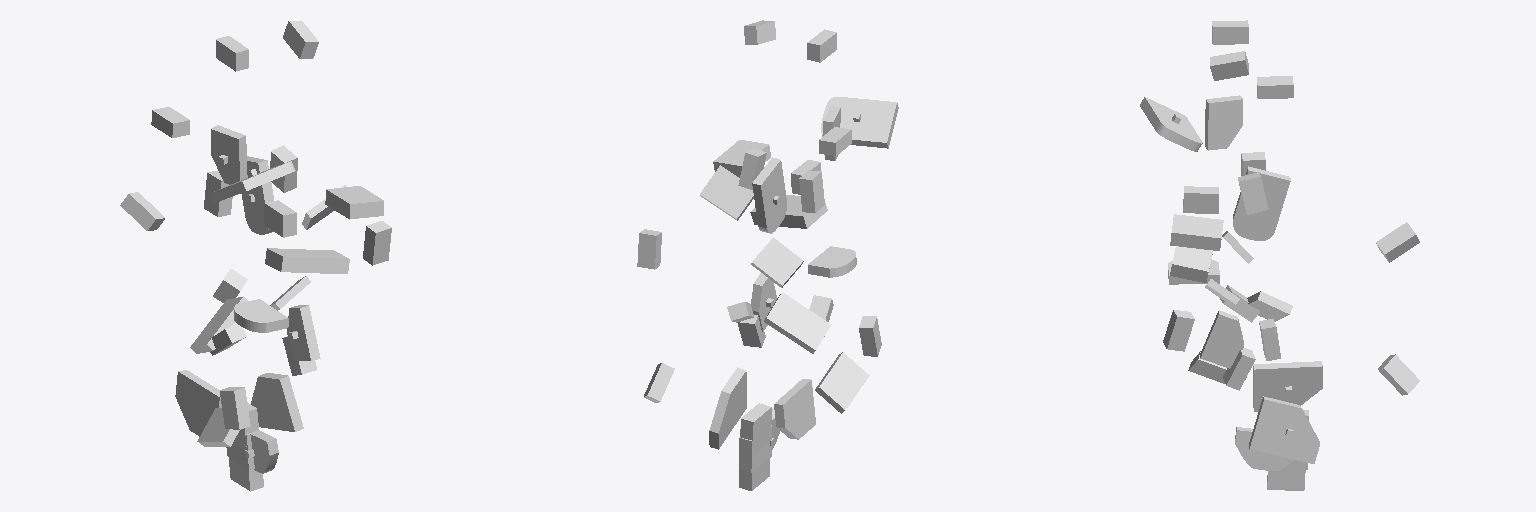
--- Facts derived from the render (not from the file) ---
The picture shows the robot from 3 angles, left to right: view 1: azimuth 30°, elevation 25°; view 2: azimuth 150°, elevation 25°; view 3: azimuth 270°, elevation 25°; orthographic projection.
Model GEN3_URDF_V12 with 38 links and 37 joints (7 revolute, 30 fixed), rooted at base_link, posed every joint at zero.
Links seen in each view (by area): view 1: Taxel_1025, Taxel_1024, Taxel_1012, Taxel_1014, Taxel_1013, Taxel_1015, Taxel_1005, Taxel_1011, Taxel_1022, Taxel_1001, Taxel_1027, Taxel_1009 (+12 smaller); view 2: Taxel_1001, Taxel_1027, Taxel_1005, Taxel_1024, Taxel_1025, Taxel_1026, Taxel_1022, Taxel_1016, Taxel_1017, Taxel_1011, Taxel_1013, Taxel_1006 (+11 smaller); view 3: Taxel_1025, Taxel_1024, Taxel_1005, Taxel_1014, Taxel_1015, Taxel_1001, Taxel_1013, Taxel_1012, Taxel_1021, Taxel_1022, Taxel_1007, Taxel_1020 (+10 smaller).
Boxes of the visible links, bbox=[...] form: Taxel_1025: bbox=[251, 373, 303, 431]; Taxel_1024: bbox=[175, 370, 221, 436]; Taxel_1012: bbox=[265, 248, 349, 273]; Taxel_1014: bbox=[211, 125, 247, 184]; Taxel_1013: bbox=[325, 186, 383, 219]; Taxel_1015: bbox=[287, 305, 320, 360]; Taxel_1005: bbox=[241, 156, 273, 234]; Taxel_1011: bbox=[234, 299, 288, 332]; Taxel_1022: bbox=[229, 402, 263, 491]; Taxel_1001: bbox=[210, 161, 295, 202]; Taxel_1027: bbox=[190, 296, 247, 353]; Taxel_1009: bbox=[220, 387, 250, 429]; Taxel_1001: bbox=[821, 97, 898, 148]; Taxel_1027: bbox=[764, 292, 831, 353]; Taxel_1005: bbox=[752, 157, 786, 233]; Taxel_1024: bbox=[774, 379, 815, 439]; Taxel_1025: bbox=[709, 367, 746, 449]; Taxel_1026: bbox=[815, 352, 869, 413]; Taxel_1022: bbox=[739, 403, 771, 490]; Taxel_1016: bbox=[700, 165, 753, 220]; Taxel_1017: bbox=[751, 237, 803, 287]; Taxel_1011: bbox=[808, 246, 856, 277]; Taxel_1013: bbox=[713, 140, 770, 177]; Taxel_1006: bbox=[799, 170, 824, 212]; Taxel_1025: bbox=[1249, 396, 1319, 463]; Taxel_1024: bbox=[1253, 361, 1322, 411]; Taxel_1005: bbox=[1233, 166, 1290, 240]; Taxel_1014: bbox=[1205, 95, 1242, 150]; Taxel_1015: bbox=[1200, 310, 1243, 368]; Taxel_1001: bbox=[1140, 97, 1202, 151]; Taxel_1013: bbox=[1170, 214, 1223, 250]; Taxel_1012: bbox=[1170, 246, 1212, 282]; Taxel_1021: bbox=[1235, 427, 1293, 470]; Taxel_1022: bbox=[1267, 410, 1308, 490]; Taxel_1007: bbox=[1183, 186, 1218, 213]; Taxel_1020: bbox=[1376, 222, 1419, 262].
Bounding box of the posed robot: 0.3778 × 0.4357 × 0.7649 m (x, y, z).
Meshes: 36 distinct files referenced, 28 mesh visuals loaded (28 binary STL); not drawn: 8 (reference not matched to a file when rendering).

robot.urdf — GEN3_URDF_V12:
<robot name="GEN3_URDF_V12" version="1.0">
    <material name="carbon_fiber">
        <color rgba="0.9 0.9 0.9 1" />
    </material>
    <link name="base_link">
        <inertial>
            <origin xyz="-0.000648 -0.000166 0.084487" rpy="0 0 0" />
            <mass value="1.697" />
            <inertia ixx="0.004622" ixy="9E-06" ixz="6E-05" iyy="0.004495" iyz="9E-06"
                izz="0.002079" />
        </inertial>
        <visual>
            <origin xyz="0 0 0" rpy="0 0 0" />
            <geometry>
                <mesh filename="package://meshes/base_link.STL" />
            </geometry>
            <material name="carbon_fiber" />
        </visual>
        <collision>
            <origin xyz="0 0 0" rpy="0 0 0" />
            <geometry>
                <mesh filename="package://meshes/base_link.STL" />
            </geometry>
        </collision>
    </link>
    <link name="Shoulder_Link">
        <inertial>
            <origin xyz="-2.3E-05 -0.010364 -0.07336" rpy="0 0 0" />
            <mass value="1.3773" />
            <inertia ixx="0.00457" ixy="1E-06" ixz="2E-06" iyy="0.004831" iyz="0.000448"
                izz="0.001409" />
        </inertial>
        <visual>
            <origin xyz="0 0 0" rpy="0 0 0" />
            <geometry>
                <mesh filename="package://meshes/shoulder_link.STL" />
            </geometry>
            <material name="carbon_fiber" />
        </visual>
        <collision>
            <origin xyz="0 0 0" rpy="0 0 0" />
            <geometry>
                <mesh filename="package://meshes/shoulder_link.STL" />
            </geometry>
        </collision>
    </link>
    <joint name="Actuator1" type="revolute">
        <origin xyz="0 0 0.15643" rpy="3.1416 2.7629E-18 -4.9305E-36" />
        <parent link="base_link" />
        <child link="Shoulder_Link" />
        <axis xyz="0 0 1" />
        <limit effort="39" velocity="0.8727" />
    </joint>
    <link name="HalfArm1_Link">
        <inertial>
            <origin xyz="-4.4E-05 -0.09958 -0.013278" rpy="0 0 0" />
            <mass value="1.1636" />
            <inertia ixx="0.011088" ixy="5E-06" ixz="0" iyy="0.001072" iyz="-0.000691"
                izz="0.011255" />
        </inertial>
        <visual>
            <origin xyz="0 0 0" rpy="0 0 0" />
            <geometry>
                <mesh filename="package://meshes/half_arm_1_link.STL" />
            </geometry>
            <material name="carbon_fiber" />
        </visual>
        <collision>
            <origin xyz="0 0 0" rpy="0 0 0" />
            <geometry>
                <mesh filename="package://meshes/half_arm_1_link.STL" />
            </geometry>
        </collision>
    </link>
    <joint name="Actuator2" type="revolute">
        <origin xyz="0 0.005375 -0.12838" rpy="1.5708 2.1343E-17 -1.1102E-16" />
        <parent link="Shoulder_Link" />
        <child link="HalfArm1_Link" />
        <axis xyz="0 0 1" />
        <limit lower="-2.41" upper="2.41" effort="39" velocity="0.8727" />
    </joint>
    <link name="HalfArm2_Link">
        <inertial>
            <origin xyz="-4.4E-05 -0.006641 -0.117892" rpy="0 0 0" />
            <mass value="1.1636" />
            <inertia ixx="0.010932" ixy="0" ixz="-7E-06" iyy="0.011127" iyz="0.000606"
                izz="0.001043" />
        </inertial>
        <visual>
            <origin xyz="0 0 0" rpy="0 0 0" />
            <geometry>
                <mesh filename="package://meshes/half_arm_2_link.STL" />
            </geometry>
            <material name="carbon_fiber" />
        </visual>
        <collision>
            <origin xyz="0 0 0" rpy="0 0 0" />
            <geometry>
                <mesh filename="package://meshes/half_arm_2_link.STL" />
            </geometry>
        </collision>
    </link>
    <joint name="Actuator3" type="revolute">
        <origin xyz="0 -0.21038 -0.006375" rpy="-1.5708 1.2326E-32 -2.9122E-16" />
        <parent link="HalfArm1_Link" />
        <child link="HalfArm2_Link" />
        <axis xyz="0 0 1" />
        <limit effort="39" velocity="0.8727" />
    </joint>
    <link name="ForeArm_Link">
        <inertial>
            <origin xyz="-1.8E-05 -0.075478 -0.015006" rpy="0 0 0" />
            <mass value="0.9302" />
            <inertia ixx="0.008147" ixy="-1E-06" ixz="0" iyy="0.000631" iyz="-0.0005" izz="0.008316" />
        </inertial>
        <visual>
            <origin xyz="0 0 0" rpy="0 0 0" />
            <geometry>
                <mesh filename="package://meshes/forearm_link.STL" />
            </geometry>
            <material name="carbon_fiber" />
        </visual>
        <collision>
            <origin xyz="0 0 0" rpy="0 0 0" />
            <geometry>
                <mesh filename="package://meshes/forearm_link.STL" />
            </geometry>
        </collision>
    </link>
    <joint name="Actuator4" type="revolute">
        <origin xyz="0 0.006375 -0.21038" rpy="1.5708 -6.6954E-17 -1.6653E-16" />
        <parent link="HalfArm2_Link" />
        <child link="ForeArm_Link" />
        <axis xyz="0 0 1" />
        <limit lower="-2.66" upper="2.66" effort="39" velocity="0.8727" />
    </joint>
    <link name="SphericalWrist1_Link">
        <inertial>
            <origin xyz="1E-06 -0.009432 -0.063883" rpy="0 0 0" />
            <mass value="0.6781" />
            <inertia ixx="0.001596" ixy="0" ixz="0" iyy="0.001607" iyz="0.000256" izz="0.000399" />
        </inertial>
        <visual>
            <origin xyz="0 0 0" rpy="0 0 0" />
            <geometry>
                <mesh filename="package://meshes/spherical_wrist_1_link.STL" />
            </geometry>
            <material name="carbon_fiber" />
        </visual>
        <collision>
            <origin xyz="0 0 0" rpy="0 0 0" />
            <geometry>
                <mesh filename="package://meshes/spherical_wrist_1_link.STL" />
            </geometry>
        </collision>
    </link>
    <joint name="Actuator5" type="revolute">
        <origin xyz="0 -0.20843 -0.006375" rpy="-1.5708 2.2204E-16 -6.373E-17" />
        <parent link="ForeArm_Link" />
        <child link="SphericalWrist1_Link" />
        <axis xyz="0 0 1" />
        <limit effort="9" velocity="0.8727" />
    </joint>
    <link name="SphericalWrist2_Link">
        <inertial>
            <origin xyz="1E-06 -0.045483 -0.00965" rpy="0 0 0" />
            <mass value="0.6781" />
            <inertia ixx="0.001641" ixy="0" ixz="0" iyy="0.00041" iyz="-0.000278" izz="0.001641" />
        </inertial>
        <visual>
            <origin xyz="0 0 0" rpy="0 0 0" />
            <geometry>
                <mesh filename="package://meshes/spherical_wrist_2_link.STL" />
            </geometry>
            <material name="carbon_fiber" />
        </visual>
        <collision>
            <origin xyz="0 0 0" rpy="0 0 0" />
            <geometry>
                <mesh filename="package://meshes/spherical_wrist_2_link.STL" />
            </geometry>
        </collision>
    </link>
    <joint name="Actuator6" type="revolute">
        <origin xyz="0 0.00017505 -0.10593" rpy="1.5708 9.2076E-28 -8.2157E-15" />
        <parent link="SphericalWrist1_Link" />
        <child link="SphericalWrist2_Link" />
        <axis xyz="0 0 1" />
        <limit lower="-2.23" upper="2.23" effort="9" velocity="0.8727" />
    </joint>
    <link name="Bracelet_Link">
        <inertial>
            <origin xyz="-0.000281 -0.011402 -0.029798" rpy="0 0 0" />
            <mass value="0.5006" />
            <inertia ixx="0.000587" ixy="3E-06" ixz="3E-06" iyy="0.000369" iyz="0.000118"
                izz="0.000609" />
        </inertial>
        <visual>
            <origin xyz="0 0 0" rpy="0 0 0" />
            <geometry>
                <mesh filename="package://meshes/bracelet_link.STL" />
            </geometry>
            <material name="carbon_fiber" />
        </visual>
        <collision>
            <origin xyz="0 0 0" rpy="0 0 0" />
            <geometry>
                <mesh filename="package://meshes/bracelet_link.STL" />
            </geometry>
        </collision>
    </link>
    <joint name="Actuator7" type="revolute">
        <origin xyz="0 -0.10593 -0.00017505" rpy="-1.5708 -5.5511E-17 9.6396E-17" />
        <parent link="SphericalWrist2_Link" />
        <child link="Bracelet_Link" />
        <axis xyz="0 0 1" />
        <limit effort="9" velocity="0.8727" />
    </joint>
    <link name="EndEffector_Link">
        <inertial>
            <origin xyz="2.607703E-08 -0.06152506 -1.476509E-22" rpy="0 0 3.14159265358979" />
            <mass value="1e-6" />
            <inertia ixx="1e-6" ixy="0" ixz="0" iyy="1e-6" iyz="0" izz="1e-6" />
        </inertial>
    </link>
    <joint name="EndEffector" type="fixed">
        <origin xyz="0 0 -0.0615250000000001" rpy="3.14159265358979 1.09937075168372E-32 0" />
        <parent link="Bracelet_Link" />
        <child link="EndEffector_Link" />
        <axis xyz="0 0 0" />
    </joint>
    <link name="GraspPoint_Link">
        <inertial>
            <origin xyz="-1.683871E-08 0.15 -9.884628E-23" rpy="0 0 0" />
            <mass value="1e-6" />
            <inertia ixx="1e-6" ixy="0" ixz="0" iyy="1e-6" iyz="0" izz="1e-6" />
        </inertial>
    </link>
    <joint name="GraspPoint" type="fixed">
        <origin xyz="0 0 0.15" rpy="0 0 0" />
        <parent link="EndEffector_Link" />
        <child link="GraspPoint_Link" />
        <axis xyz="0 0 0" />
    </joint>


    <link name="Taxel_1000">
        <inertial>
            <origin xyz="-0.052445270429107016 -0.07538602327149134 0.0007283991244731002"
                rpy="3.0325962716393877 0.005719178247827092 3.0331306355976504" />
            <mass value="0" />
            <inertia ixx="0" ixy="0" ixz="0" iyy="0" iyz="0" izz="0" />
        </inertial>
        <visual>
            <origin xyz="-0.04250419541867655 -0.07646850041798192 0.0007855905951708805"
                rpy="-3.0890651379540226 -1.4616505955674315 -1.7314738657660091" />
            <geometry>
                <mesh filename="package://meshes/taxel_0.STL" scale="0.01 0.01 0.01" />
            </geometry>
            <material name="carbon_fiber" />
        </visual>
        <collision>
            <origin xyz="0 0 0" rpy="0 0 0" />
            <geometry>
                <mesh filename="package://meshes/taxel_0.STL" scale="0.01 0.01 0.01" />
            </geometry>
        </collision>
    </link>

    <joint name="Taxel_1000_joint" type="fixed">
        <origin xyz="-0.052445270429107016 -0.07538602327149134 0.0007283991244731002"
            rpy="3.0325962716393877 0.005719178247827092 3.0331306355976504" />
        <parent link="SphericalWrist2_Link" />
        <child link="Taxel_1000" />
        <axis xyz="0 0 0" />
    </joint>


    <link name="Taxel_1001">
        <inertial>
            <origin xyz="0.005253869170896618 -0.04552703466552932 -0.06957663768240956"
                rpy="0.8051031730330349 1.1810370681142635 -0.8047010596119216" />
            <mass value="0" />
            <inertia ixx="0" ixy="0" ixz="0" iyy="0" iyz="0" izz="0" />
        </inertial>
        <visual>
            <origin xyz="-1.4938605298674768e-05 -0.040050790502569544 -0.051076626480111506"
                rpy="0.8051031730330349 1.1810370681142643 -0.8047010596119213" />
            <geometry>
                <mesh filename="package://meshes/taxel_1.STL" scale="0.01 0.01 0.01" />
            </geometry>
            <material name="carbon_fiber" />
        </visual>
        <collision>
            <origin xyz="0 0 0" rpy="0 0 0" />
            <geometry>
                <mesh filename="package://meshes/taxel_1.STL" scale="0.01 0.01 0.01" />
            </geometry>
        </collision>
    </link>

    <joint name="Taxel_1001_joint" type="fixed">
        <origin xyz="0.005253869170896618 -0.04552703466552932 -0.06957663768240956"
            rpy="0.8051031730330349 1.1810370681142635 -0.8047010596119216" />
        <parent link="SphericalWrist2_Link" />
        <child link="Taxel_1001" />
        <axis xyz="0 0 0" />
    </joint>


    <link name="Taxel_1002">
        <inertial>
            <origin xyz="0.05265680961296004 -0.07765011212123438 -0.00028589384460279364"
                rpy="0.10919582921402513 0.0057867837083246465 0.10839861698426927" />
            <mass value="0" />
            <inertia ixx="0" ixy="0" ixz="0" iyy="0" iyz="0" izz="0" />
        </inertial>
        <visual>
            <origin xyz="0.04271566985884755 -0.07873195857060433 -0.00022802633048775445"
                rpy="-3.0885418743915634 1.4614478801616508 1.7319294614617435" />
            <geometry>
                <mesh filename="package://meshes/taxel_2.STL" scale="0.01 0.01 0.01" />
            </geometry>
            <material name="carbon_fiber" />
        </visual>
        <collision>
            <origin xyz="0 0 0" rpy="0 0 0" />
            <geometry>
                <mesh filename="package://meshes/taxel_2.STL" scale="0.01 0.01 0.01" />
            </geometry>
        </collision>
    </link>

    <joint name="Taxel_1002_joint" type="fixed">
        <origin xyz="0.05265680961296004 -0.07765011212123438 -0.00028589384460279364"
            rpy="0.10919582921402513 0.0057867837083246465 0.10839861698426927" />
        <parent link="SphericalWrist2_Link" />
        <child link="Taxel_1002" />
        <axis xyz="0 0 0" />
    </joint>


    <link name="Taxel_1003">
        <inertial>
            <origin xyz="-0.001095072945351181 -0.07839455017060445 0.06312497430707095"
                rpy="0.7858420871596952 -1.4940900297599693 -2.355205855806937" />
            <mass value="0" />
            <inertia ixx="0" ixy="0" ixz="0" iyy="0" iyz="0" izz="0" />
        </inertial>
        <visual>
            <origin xyz="-1.241750836219415e-05 -0.07730975191366674 0.0431837840229755"
                rpy="0.7858420871596947 -1.4940900297599693 -2.3552058558069366" />
            <geometry>
                <mesh filename="package://meshes/taxel_3.STL" scale="0.01 0.01 0.01" />
            </geometry>
            <material name="carbon_fiber" />
        </visual>
        <collision>
            <origin xyz="0 0 0" rpy="0 0 0" />
            <geometry>
                <mesh filename="package://meshes/taxel_3.STL" scale="0.01 0.01 0.01" />
            </geometry>
        </collision>
    </link>

    <joint name="Taxel_1003_joint" type="fixed">
        <origin xyz="-0.001095072945351181 -0.07839455017060445 0.06312497430707095"
            rpy="0.7858420871596952 -1.4940900297599693 -2.355205855806937" />
        <parent link="SphericalWrist2_Link" />
        <child link="Taxel_1003" />
        <axis xyz="0 0 0" />
    </joint>


    <link name="Taxel_1004">
        <inertial>
            <origin xyz="0.053092065069546106 -2.2147194704642196e-05 -0.02890316990831826"
                rpy="-1.462889824467867 0.10742518247060699 0.01039176457728499" />
            <mass value="0" />
            <inertia ixx="0" ixy="0" ixz="0" iyy="0" iyz="0" izz="0" />
        </inertial>
        <visual>
            <origin xyz="0.043150247276728726 -0.0001254639437208889 -0.02783098306648868"
                rpy="-0.10804878460644929 0.10728206669616602 -1.572018748036638" />
            <geometry>
                <mesh filename="package://meshes/taxel_4.STL" scale="0.01 0.01 0.01" />
            </geometry>
            <material name="carbon_fiber" />
        </visual>
        <collision>
            <origin xyz="0 0 0" rpy="0 0 0" />
            <geometry>
                <mesh filename="package://meshes/taxel_4.STL" scale="0.01 0.01 0.01" />
            </geometry>
        </collision>
    </link>

    <joint name="Taxel_1004_joint" type="fixed">
        <origin xyz="0.053092065069546106 -2.2147194704642196e-05 -0.02890316990831826"
            rpy="-1.462889824467867 0.10742518247060699 0.01039176457728499" />
        <parent link="SphericalWrist1_Link" />
        <child link="Taxel_1004" />
        <axis xyz="0 0 0" />
    </joint>


    <link name="Taxel_1005">
        <inertial>
            <origin xyz="0.005221916540081712 -0.07017566229833808 -0.061414771366915394"
                rpy="3.141572926305186 -0.2887493170310711 -1.2820007033549434" />
            <mass value="0" />
            <inertia ixx="0" ixy="0" ixz="0" iyy="0" iyz="0" izz="0" />
        </inertial>
        <visual>
            <origin xyz="-0.0002382337409993086 -0.05179760671765822 -0.06710984221647054"
                rpy="-3.141572926305186 0.2887493170310713 1.85959195023485" />
            <geometry>
                <mesh filename="package://meshes/taxel_5.STL" scale="0.01 0.01 0.01" />
            </geometry>
            <material name="carbon_fiber" />
        </visual>
        <collision>
            <origin xyz="0 0 0" rpy="0 0 0" />
            <geometry>
                <mesh filename="package://meshes/taxel_5.STL" scale="0.01 0.01 0.01" />
            </geometry>
        </collision>
    </link>

    <joint name="Taxel_1005_joint" type="fixed">
        <origin xyz="0.005221916540081712 -0.07017566229833808 -0.061414771366915394"
            rpy="3.141572926305186 -0.2887493170310711 -1.2820007033549434" />
        <parent link="SphericalWrist1_Link" />
        <child link="Taxel_1005" />
        <axis xyz="0 0 0" />
    </joint>


    <link name="Taxel_1006">
        <inertial>
            <origin xyz="-0.06307401245762806 -0.0003130461435304449 -0.02975828247864177"
                rpy="1.6784554426391078 0.1071455967644725 -3.1313389720234928" />
            <mass value="0" />
            <inertia ixx="0" ixy="0" ixz="0" iyy="0" iyz="0" izz="0" />
        </inertial>
        <visual>
            <origin xyz="-0.04318974980140639 -0.00010915210035311942 -0.02761946835919482"
                rpy="-3.0338279148872993 -0.10703935821961919 -1.5720999606389767" />
            <geometry>
                <mesh filename="package://meshes/taxel_6.STL" scale="0.01 0.01 0.01" />
            </geometry>
            <material name="carbon_fiber" />
        </visual>
        <collision>
            <origin xyz="0 0 0" rpy="0 0 0" />
            <geometry>
                <mesh filename="package://meshes/taxel_6.STL" scale="0.01 0.01 0.01" />
            </geometry>
        </collision>
    </link>

    <joint name="Taxel_1006_joint" type="fixed">
        <origin xyz="-0.06307401245762806 -0.0003130461435304449 -0.02975828247864177"
            rpy="1.6784554426391078 0.1071455967644725 -3.1313389720234928" />
        <parent link="SphericalWrist1_Link" />
        <child link="Taxel_1006" />
        <axis xyz="0 0 0" />
    </joint>


    <link name="Taxel_1007">
        <inertial>
            <origin xyz="0.0003346420054532836 0.053910676887829634 -0.027207530688237454"
                rpy="-3.1415753633450887 0.034705095518203194 1.5361425157308877" />
            <mass value="0" />
            <inertia ixx="0" ixy="0" ixz="0" iyy="0" iyz="0" izz="0" />
        </inertial>
        <visual>
            <origin xyz="-1.1618120415300221e-05 0.043922698718644126 -0.02686054939608018"
                rpy="-3.1415753633450887 0.03470509551820333 1.5361425157308872" />
            <geometry>
                <mesh filename="package://meshes/taxel_7.STL" scale="0.01 0.01 0.01" />
            </geometry>
            <material name="carbon_fiber" />
        </visual>
        <collision>
            <origin xyz="0 0 0" rpy="0 0 0" />
            <geometry>
                <mesh filename="package://meshes/taxel_7.STL" scale="0.01 0.01 0.01" />
            </geometry>
        </collision>
    </link>

    <joint name="Taxel_1007_joint" type="fixed">
        <origin xyz="0.0003346420054532836 0.053910676887829634 -0.027207530688237454"
            rpy="-3.1415753633450887 0.034705095518203194 1.5361425157308877" />
        <parent link="SphericalWrist1_Link" />
        <child link="Taxel_1007" />
        <axis xyz="0 0 0" />
    </joint>


    <link name="Taxel_1008">
        <inertial>
            <origin xyz="0.0658343767300894 0.02357927898077783 -0.04602053752230401"
                rpy="2.58983245022597 -0.006017370331153325 0.3551113828313077" />
            <mass value="0" />
            <inertia ixx="0" ixy="0" ixz="0" iyy="0" iyz="0" izz="0" />
        </inertial>
        <visual>
            <origin xyz="0.047082560876994604 0.016625508860321547 -0.046140884202656954"
                rpy="-2.1225565301587195 -0.006017370331153238 0.35511138283130794" />
            <geometry>
                <mesh filename="package://meshes/taxel_8.STL" scale="0.01 0.01 0.01" />
            </geometry>
            <material name="carbon_fiber" />
        </visual>
        <collision>
            <origin xyz="0 0 0" rpy="0 0 0" />
            <geometry>
                <mesh filename="package://meshes/taxel_8.STL" scale="0.01 0.01 0.01" />
            </geometry>
        </collision>
    </link>

    <joint name="Taxel_1008_joint" type="fixed">
        <origin xyz="0.0658343767300894 0.02357927898077783 -0.04602053752230401"
            rpy="2.58983245022597 -0.006017370331153325 0.3551113828313077" />
        <parent link="ForeArm_Link" />
        <child link="Taxel_1008" />
        <axis xyz="0 0 0" />
    </joint>


    <link name="Taxel_1009">
        <inertial>
            <origin xyz="2.46057108248216e-05 0.07220353266045361 -0.05023960259350978"
                rpy="-0.00574583743364575 0.2848268491189645 1.56916429614993" />
            <mass value="0" />
            <inertia ixx="0" ixy="0" ixz="0" iyy="0" iyz="0" izz="0" />
        </inertial>
        <visual>
            <origin xyz="-6.7198083501523495e-06 0.05300935180393007 -0.04461977697709482"
                rpy="0.01962196621053769 1.2859131033980793 -1.5519825273381962" />
            <geometry>
                <mesh filename="package://meshes/taxel_9.STL" scale="0.01 0.01 0.01" />
            </geometry>
            <material name="carbon_fiber" />
        </visual>
        <collision>
            <origin xyz="0 0 0" rpy="0 0 0" />
            <geometry>
                <mesh filename="package://meshes/taxel_9.STL" scale="0.01 0.01 0.01" />
            </geometry>
        </collision>
    </link>

    <joint name="Taxel_1009_joint" type="fixed">
        <origin xyz="2.46057108248216e-05 0.07220353266045361 -0.05023960259350978"
            rpy="-0.00574583743364575 0.2848268491189645 1.56916429614993" />
        <parent link="ForeArm_Link" />
        <child link="Taxel_1009" />
        <axis xyz="0 0 0" />
    </joint>


    <link name="Taxel_1010">
        <inertial>
            <origin xyz="-0.05620783280621706 0.020749938968476496 -0.04619442068590287"
                rpy="2.589438240595205 0.00585531480516756 2.7166321094460133" />
            <mass value="0" />
            <inertia ixx="0" ixy="0" ixz="0" iyy="0" iyz="0" izz="0" />
        </inertial>
        <visual>
            <origin xyz="-0.047097438974916264 0.016627161287515402 -0.04613586787243025"
                rpy="2.5894382405952054 0.005855314805167655 2.7166321094460137" />
            <geometry>
                <mesh filename="package://meshes/taxel_10.STL" scale="0.01 0.01 0.01" />
            </geometry>
            <material name="carbon_fiber" />
        </visual>
        <collision>
            <origin xyz="0 0 0" rpy="0 0 0" />
            <geometry>
                <mesh filename="package://meshes/taxel_10.STL" scale="0.01 0.01 0.01" />
            </geometry>
        </collision>
    </link>

    <joint name="Taxel_1010_joint" type="fixed">
        <origin xyz="-0.05620783280621706 0.020749938968476496 -0.04619442068590287"
            rpy="2.589438240595205 0.00585531480516756 2.7166321094460133" />
        <parent link="ForeArm_Link" />
        <child link="Taxel_1010" />
        <axis xyz="0 0 0" />
    </joint>


    <link name="Taxel_1011">
        <inertial>
            <origin xyz="0.0004578933506899421 0.005938484151564601 -0.0743705179182155"
                rpy="-2.3563396483046093 1.5048366469793353 -0.7866488104429873" />
            <mass value="0" />
            <inertia ixx="0" ixy="0" ixz="0" iyy="0" iyz="0" izz="0" />
        </inertial>
        <visual>
            <origin xyz="-7.590645030513553e-06 0.006405133918228834 -0.06439226342932816"
                rpy="0.7852530052851794 1.5048366469793386 -0.7866488104429923" />
            <geometry>
                <mesh filename="package://meshes/taxel_11.STL" scale="0.01 0.01 0.01" />
            </geometry>
            <material name="carbon_fiber" />
        </visual>
        <collision>
            <origin xyz="0 0 0" rpy="0 0 0" />
            <geometry>
                <mesh filename="package://meshes/taxel_11.STL" scale="0.01 0.01 0.01" />
            </geometry>
        </collision>
    </link>

    <joint name="Taxel_1011_joint" type="fixed">
        <origin xyz="0.0004578933506899421 0.005938484151564601 -0.0743705179182155"
            rpy="-2.3563396483046093 1.5048366469793353 -0.7866488104429873" />
        <parent link="ForeArm_Link" />
        <child link="Taxel_1011" />
        <axis xyz="0 0 0" />
    </joint>


    <link name="Taxel_1012">
        <inertial>
            <origin xyz="-0.0009229528724958259 -0.08137834947186665 -0.068935076062268"
                rpy="2.3538499386692475 1.440912816500405 -2.3543282724947714" />
            <mass value="0" />
            <inertia ixx="0" ixy="0" ixz="0" iyy="0" iyz="0" izz="0" />
        </inertial>
        <visual>
            <origin xyz="-8.828563007841432e-06 -0.08046080686920276 -0.059019306181966213"
                rpy="2.3538499386692475 1.4409128165004068 -2.354328272494772" />
            <geometry>
                <mesh filename="package://meshes/taxel_12.STL" scale="0.01 0.01 0.01" />
            </geometry>
            <material name="carbon_fiber" />
        </visual>
        <collision>
            <origin xyz="0 0 0" rpy="0 0 0" />
            <geometry>
                <mesh filename="package://meshes/taxel_12.STL" scale="0.01 0.01 0.01" />
            </geometry>
        </collision>
    </link>

    <joint name="Taxel_1012_joint" type="fixed">
        <origin xyz="-0.0009229528724958259 -0.08137834947186665 -0.068935076062268"
            rpy="2.3538499386692475 1.440912816500405 -2.3543282724947714" />
        <parent link="ForeArm_Link" />
        <child link="Taxel_1012" />
        <axis xyz="0 0 0" />
    </joint>


    <link name="Taxel_1013">
        <inertial>
            <origin xyz="-0.0005355901042006564 -0.16320378481272 -0.060218701524303093"
                rpy="2.355099881798253 1.4963497778455332 -2.3559203713851984" />
            <mass value="0" />
            <inertia ixx="0" ixy="0" ixz="0" iyy="0" iyz="0" izz="0" />
        </inertial>
        <visual>
            <origin xyz="-9.803819467654521e-06 -0.16267771019312338 -0.050246400171184896"
                rpy="2.355099881798253 1.496349777845535 -2.3559203713851997" />
            <geometry>
                <mesh filename="package://meshes/taxel_13.STL" scale="0.01 0.01 0.01" />
            </geometry>
            <material name="carbon_fiber" />
        </visual>
        <collision>
            <origin xyz="0 0 0" rpy="0 0 0" />
            <geometry>
                <mesh filename="package://meshes/taxel_13.STL" scale="0.01 0.01 0.01" />
            </geometry>
        </collision>
    </link>

    <joint name="Taxel_1013_joint" type="fixed">
        <origin xyz="-0.0005355901042006564 -0.16320378481272 -0.060218701524303093"
            rpy="2.355099881798253 1.4963497778455332 -2.3559203713851984" />
        <parent link="ForeArm_Link" />
        <child link="Taxel_1013" />
        <axis xyz="0 0 0" />
    </joint>


    <link name="Taxel_1014">
        <inertial>
            <origin xyz="-0.06141758373372484 -0.15282757313946702 -0.00798198031334975"
                rpy="2.9470413693494844 0.14206325637029465 3.033195237481877" />
            <mass value="0" />
            <inertia ixx="0" ixy="0" ixz="0" iyy="0" iyz="0" izz="0" />
        </inertial>
        <visual>
            <origin xyz="-0.04173526667542263 -0.15496948117011622 -0.005150262600599035"
                rpy="2.5046383948751085 1.33042878555269 0.839330839979433" />
            <geometry>
                <mesh filename="package://meshes/taxel_14.STL" scale="0.01 0.01 0.01" />
            </geometry>
            <material name="carbon_fiber" />
        </visual>
        <collision>
            <origin xyz="0 0 0" rpy="0 0 0" />
            <geometry>
                <mesh filename="package://meshes/taxel_14.STL" scale="0.01 0.01 0.01" />
            </geometry>
        </collision>
    </link>

    <joint name="Taxel_1014_joint" type="fixed">
        <origin xyz="-0.06141758373372484 -0.15282757313946702 -0.00798198031334975"
            rpy="2.9470413693494844 0.14206325637029465 3.033195237481877" />
        <parent link="ForeArm_Link" />
        <child link="Taxel_1014" />
        <axis xyz="0 0 0" />
    </joint>


    <link name="Taxel_1015">
        <inertial>
            <origin xyz="0.061402125399448934 -0.15282966562912784 -0.002323037170356276"
                rpy="2.9470192358836904 -0.1420608723371494 0.10836546021182321" />
            <mass value="0" />
            <inertia ixx="0" ixy="0" ixz="0" iyy="0" iyz="0" izz="0" />
        </inertial>
        <visual>
            <origin xyz="0.04171973319335233 -0.15497094542273304 -0.005154707682772205"
                rpy="0.6368924235168598 1.330412382902857 -0.8394259869845486" />
            <geometry>
                <mesh filename="package://meshes/taxel_15.STL" scale="0.01 0.01 0.01" />
            </geometry>
            <material name="carbon_fiber" />
        </visual>
        <collision>
            <origin xyz="0 0 0" rpy="0 0 0" />
            <geometry>
                <mesh filename="package://meshes/taxel_15.STL" scale="0.01 0.01 0.01" />
            </geometry>
        </collision>
    </link>

    <joint name="Taxel_1015_joint" type="fixed">
        <origin xyz="0.061402125399448934 -0.15282966562912784 -0.002323037170356276"
            rpy="2.9470192358836904 -0.1420608723371494 0.10836546021182321" />
        <parent link="ForeArm_Link" />
        <child link="Taxel_1015" />
        <axis xyz="0 0 0" />
    </joint>


    <link name="Taxel_1016">
        <inertial>
            <origin xyz="0.0033486519260013275 -0.14923232372145614 0.03972098178841259"
                rpy="0.8199999767698127 -1.0569270037748635 0.819862837068585" />
            <mass value="0" />
            <inertia ixx="0" ixy="0" ixz="0" iyy="0" iyz="0" izz="0" />
        </inertial>
        <visual>
            <origin xyz="-5.302853516851408e-06 -0.15282581480448965 0.031012491151505076"
                rpy="0.8199999767698127 -1.056927003774864 0.8198628370685848" />
            <geometry>
                <mesh filename="package://meshes/taxel_16.STL" scale="0.01 0.01 0.01" />
            </geometry>
            <material name="carbon_fiber" />
        </visual>
        <collision>
            <origin xyz="0 0 0" rpy="0 0 0" />
            <geometry>
                <mesh filename="package://meshes/taxel_16.STL" scale="0.01 0.01 0.01" />
            </geometry>
        </collision>
    </link>

    <joint name="Taxel_1016_joint" type="fixed">
        <origin xyz="0.0033486519260013275 -0.14923232372145614 0.03972098178841259"
            rpy="0.8199999767698127 -1.0569270037748635 0.819862837068585" />
        <parent link="ForeArm_Link" />
        <child link="Taxel_1016" />
        <axis xyz="0 0 0" />
    </joint>


    <link name="Taxel_1017">
        <inertial>
            <origin xyz="0.0029704625638340663 -0.07388225966840288 -0.0008567068750396454"
                rpy="0.8113037932073812 -1.123832852842719 0.8111496978970345" />
            <mass value="0" />
            <inertia ixx="0" ixy="0" ixz="0" iyy="0" iyz="0" izz="0" />
        </inertial>
        <visual>
            <origin xyz="-6.150508083981775e-06 -0.07701626534250128 -0.00987434420722404"
                rpy="0.8113037932073812 -1.1238328528427193 0.8111496978970347" />
            <geometry>
                <mesh filename="package://meshes/taxel_17.STL" scale="0.01 0.01 0.01" />
            </geometry>
            <material name="carbon_fiber" />
        </visual>
        <collision>
            <origin xyz="0 0 0" rpy="0 0 0" />
            <geometry>
                <mesh filename="package://meshes/taxel_17.STL" scale="0.01 0.01 0.01" />
            </geometry>
        </collision>
    </link>

    <joint name="Taxel_1017_joint" type="fixed">
        <origin xyz="0.0029704625638340663 -0.07388225966840288 -0.0008567068750396454"
            rpy="0.8113037932073812 -1.123832852842719 0.8111496978970345" />
        <parent link="ForeArm_Link" />
        <child link="Taxel_1017" />
        <axis xyz="0 0 0" />
    </joint>


    <link name="Taxel_1018">
        <inertial>
            <origin xyz="0.0556363031282233 -0.030489749350620494 -0.23617264699567328"
                rpy="-2.015185948847379 0.6457814426216468 -0.16570748110885358" />
            <mass value="0" />
            <inertia ixx="0" ixy="0" ixz="0" iyy="0" iyz="0" izz="0" />
        </inertial>
        <visual>
            <origin xyz="0.04775940299230756 -0.029172408330763868 -0.2301544199406168"
                rpy="-2.4460869817984157 0.3504669400695146 1.684170583195792" />
            <geometry>
                <mesh filename="package://meshes/taxel_18.STL" scale="0.01 0.01 0.01" />
            </geometry>
            <material name="carbon_fiber" />
        </visual>
        <collision>
            <origin xyz="0 0 0" rpy="0 0 0" />
            <geometry>
                <mesh filename="package://meshes/taxel_18.STL" scale="0.01 0.01 0.01" />
            </geometry>
        </collision>
    </link>

    <joint name="Taxel_1018_joint" type="fixed">
        <origin xyz="0.0556363031282233 -0.030489749350620494 -0.23617264699567328"
            rpy="-2.015185948847379 0.6457814426216468 -0.16570748110885358" />
        <parent link="HalfArm2_Link" />
        <child link="Taxel_1018" />
        <axis xyz="0 0 0" />
    </joint>


    <link name="Taxel_1019">
        <inertial>
            <origin xyz="-2.3121205392093903e-06 -0.0269423511294579 -0.2844489118279204"
                rpy="0.7291892589237988 1.5707831143376723 -2.5519764715662125" />
            <mass value="0" />
            <inertia ixx="0" ixy="0" ixz="0" iyy="0" iyz="0" izz="0" />
        </inertial>
        <visual>
            <origin xyz="-2.092488763690554e-06 -0.02694220419582137 -0.2644489118296661"
                rpy="2.2999855857040767 1.5707831143460753 -2.5519764715808315" />
            <geometry>
                <mesh filename="package://meshes/taxel_19.STL" scale="0.01 0.01 0.01" />
            </geometry>
            <material name="carbon_fiber" />
        </visual>
        <collision>
            <origin xyz="0 0 0" rpy="0 0 0" />
            <geometry>
                <mesh filename="package://meshes/taxel_19.STL" scale="0.01 0.01 0.01" />
            </geometry>
        </collision>
    </link>

    <joint name="Taxel_1019_joint" type="fixed">
        <origin xyz="-2.3121205392093903e-06 -0.0269423511294579 -0.2844489118279204"
            rpy="0.7291892589237988 1.5707831143376723 -2.5519764715662125" />
        <parent link="HalfArm2_Link" />
        <child link="Taxel_1019" />
        <axis xyz="0 0 0" />
    </joint>


    <link name="Taxel_1020">
        <inertial>
            <origin xyz="-0.06577103292852764 -0.023765519849044514 -0.23732432914833027"
                rpy="1.1955598934441065 0.3454780726652771 3.002022745094881" />
            <mass value="0" />
            <inertia ixx="0" ixy="0" ixz="0" iyy="0" iyz="0" izz="0" />
        </inertial>
        <visual>
            <origin xyz="-0.04713575005582718 -0.026383465676048472 -0.23055139832768035"
                rpy="2.766356220239003 0.3454780726652773 3.002022745094881" />
            <geometry>
                <mesh filename="package://meshes/taxel_20.STL" scale="0.01 0.01 0.01" />
            </geometry>
            <material name="carbon_fiber" />
        </visual>
        <collision>
            <origin xyz="0 0 0" rpy="0 0 0" />
            <geometry>
                <mesh filename="package://meshes/taxel_20.STL" scale="0.01 0.01 0.01" />
            </geometry>
        </collision>
    </link>

    <joint name="Taxel_1020_joint" type="fixed">
        <origin xyz="-0.06577103292852764 -0.023765519849044514 -0.23732432914833027"
            rpy="1.1955598934441065 0.3454780726652771 3.002022745094881" />
        <parent link="HalfArm2_Link" />
        <child link="Taxel_1020" />
        <axis xyz="0 0 0" />
    </joint>


    <link name="Taxel_1021">
        <inertial>
            <origin xyz="0.0026554193907917124 -0.07422172749015186 -0.22507186995304906"
                rpy="3.1415806783350835 -0.13439616083551223 -1.436351106535691" />
            <mass value="0" />
            <inertia ixx="0" ixy="0" ixz="0" iyy="0" iyz="0" izz="0" />
        </inertial>
        <visual>
            <origin xyz="-1.2173507245044695e-06 -0.054580934607185494 -0.22775170878253925"
                rpy="-3.1415806783350835 0.13439616083551265 1.7052415470541025" />
            <geometry>
                <mesh filename="package://meshes/taxel_21.STL" scale="0.01 0.01 0.01" />
            </geometry>
            <material name="carbon_fiber" />
        </visual>
        <collision>
            <origin xyz="0 0 0" rpy="0 0 0" />
            <geometry>
                <mesh filename="package://meshes/taxel_21.STL" scale="0.01 0.01 0.01" />
            </geometry>
        </collision>
    </link>

    <joint name="Taxel_1021_joint" type="fixed">
        <origin xyz="0.0026554193907917124 -0.07422172749015186 -0.22507186995304906"
            rpy="3.1415806783350835 -0.13439616083551223 -1.436351106535691" />
        <parent link="HalfArm2_Link" />
        <child link="Taxel_1021" />
        <axis xyz="0 0 0" />
    </joint>


    <link name="Taxel_1022">
        <inertial>
            <origin xyz="-0.0012816032220243434 -0.07331406969408741 -0.1378002765480122"
                rpy="3.1415820951482085 -0.05760383141792634 -1.6283383209798288" />
            <mass value="0" />
            <inertia ixx="0" ixy="0" ixz="0" iyy="0" iyz="0" izz="0" />
        </inertial>
        <visual>
            <origin xyz="-0.0001333060986898991 -0.05338028930573722 -0.1389517161450241"
                rpy="3.141582095148209 -0.057603831417926354 -1.6283383209798288" />
            <geometry>
                <mesh filename="package://meshes/taxel_22.STL" scale="0.01 0.01 0.01" />
            </geometry>
            <material name="carbon_fiber" />
        </visual>
        <collision>
            <origin xyz="0 0 0" rpy="0 0 0" />
            <geometry>
                <mesh filename="package://meshes/taxel_22.STL" scale="0.01 0.01 0.01" />
            </geometry>
        </collision>
    </link>

    <joint name="Taxel_1022_joint" type="fixed">
        <origin xyz="-0.0012816032220243434 -0.07331406969408741 -0.1378002765480122"
            rpy="3.1415820951482085 -0.05760383141792634 -1.6283383209798288" />
        <parent link="HalfArm2_Link" />
        <child link="Taxel_1022" />
        <axis xyz="0 0 0" />
    </joint>


    <link name="Taxel_1023">
        <inertial>
            <origin xyz="0.0006662508025805409 -0.07185521288819244 -0.04715359925362078"
                rpy="3.1415814150437593 -0.03491354341370051 -1.535836086193854" />
            <mass value="0" />
            <inertia ixx="0" ixy="0" ixz="0" iyy="0" iyz="0" izz="0" />
        </inertial>
        <visual>
            <origin xyz="-3.23855682768594e-05 -0.05187961469696644 -0.04785172827035311"
                rpy="3.1415814150437598 -0.03491354341370023 -1.535836086193854" />
            <geometry>
                <mesh filename="package://meshes/taxel_23.STL" scale="0.01 0.01 0.01" />
            </geometry>
            <material name="carbon_fiber" />
        </visual>
        <collision>
            <origin xyz="0 0 0" rpy="0 0 0" />
            <geometry>
                <mesh filename="package://meshes/taxel_23.STL" scale="0.01 0.01 0.01" />
            </geometry>
        </collision>
    </link>

    <joint name="Taxel_1023_joint" type="fixed">
        <origin xyz="0.0006662508025805409 -0.07185521288819244 -0.04715359925362078"
            rpy="3.1415814150437593 -0.03491354341370051 -1.535836086193854" />
        <parent link="HalfArm2_Link" />
        <child link="Taxel_1023" />
        <axis xyz="0 0 0" />
    </joint>


    <link name="Taxel_1024">
        <inertial>
            <origin xyz="-0.05996039751867805 -0.007382927210112872 -0.06427009050312035"
                rpy="1.448630680431114 0.12216206562507158 -3.1415384883390267" />
            <mass value="0" />
            <inertia ixx="0" ixy="0" ixz="0" iyy="0" iyz="0" izz="0" />
        </inertial>
        <visual>
            <origin xyz="-0.0500349226337144 -0.007382389594276225 -0.06305150607070498"
                rpy="-3.0185224846261898 0.1212507004418315 -1.555781857794618" />
            <geometry>
                <mesh filename="package://meshes/taxel_24.STL" scale="0.01 0.01 0.01" />
            </geometry>
            <material name="carbon_fiber" />
        </visual>
        <collision>
            <origin xyz="0 0 0" rpy="0 0 0" />
            <geometry>
                <mesh filename="package://meshes/taxel_24.STL" scale="0.01 0.01 0.01" />
            </geometry>
        </collision>
    </link>

    <joint name="Taxel_1024_joint" type="fixed">
        <origin xyz="-0.05996039751867805 -0.007382927210112872 -0.06427009050312035"
            rpy="1.448630680431114 0.12216206562507158 -3.1415384883390267" />
        <parent link="HalfArm2_Link" />
        <child link="Taxel_1024" />
        <axis xyz="0 0 0" />
    </joint>


    <link name="Taxel_1025">
        <inertial>
            <origin xyz="0.06076772613395656 -0.007376509126739797 -0.06594445391633542"
                rpy="-1.7104300852781358 0.13963732216697305 5.223083102975737e-05" />
            <mass value="0" />
            <inertia ixx="0" ixy="0" ixz="0" iyy="0" iyz="0" izz="0" />
        </inertial>
        <visual>
            <origin xyz="0.05086506074464583 -0.00737702635118296 -0.06455261415550584"
                rpy="3.000600918223358 -0.13826586736296864 -1.5511845056165126" />
            <geometry>
                <mesh filename="package://meshes/taxel_25.STL" scale="0.01 0.01 0.01" />
            </geometry>
            <material name="carbon_fiber" />
        </visual>
        <collision>
            <origin xyz="0 0 0" rpy="0 0 0" />
            <geometry>
                <mesh filename="package://meshes/taxel_25.STL" scale="0.01 0.01 0.01" />
            </geometry>
        </collision>
    </link>

    <joint name="Taxel_1025_joint" type="fixed">
        <origin xyz="0.06076772613395656 -0.007376509126739797 -0.06594445391633542"
            rpy="-1.7104300852781358 0.13963732216697305 5.223083102975737e-05" />
        <parent link="HalfArm2_Link" />
        <child link="Taxel_1025" />
        <axis xyz="0 0 0" />
    </joint>


    <link name="Taxel_1026">
        <inertial>
            <origin xyz="0.0018619892224203058 0.05339231280357474 -0.049498588409510345"
                rpy="1.1844515798578078e-05 0.3839797815321262 1.5708540271714284" />
            <mass value="0" />
            <inertia ixx="0" ixy="0" ixz="0" iyy="0" iyz="0" izz="0" />
        </inertial>
        <visual>
            <origin xyz="0.0018625242094073681 0.04412050179254166 -0.0457524543636606"
                rpy="1.1844515798387079e-05 0.3839797815321262 1.5708540271714284" />
            <geometry>
                <mesh filename="package://meshes/taxel_26.STL" scale="0.01 0.01 0.01" />
            </geometry>
            <material name="carbon_fiber" />
        </visual>
        <collision>
            <origin xyz="0 0 0" rpy="0 0 0" />
            <geometry>
                <mesh filename="package://meshes/taxel_26.STL" scale="0.01 0.01 0.01" />
            </geometry>
        </collision>
    </link>

    <joint name="Taxel_1026_joint" type="fixed">
        <origin xyz="0.0018619892224203058 0.05339231280357474 -0.049498588409510345"
            rpy="1.1844515798578078e-05 0.3839797815321262 1.5708540271714284" />
        <parent link="HalfArm2_Link" />
        <child link="Taxel_1026" />
        <axis xyz="0 0 0" />
    </joint>


    <link name="Taxel_1027">
        <inertial>
            <origin xyz="0.0008633657126970411 0.01352998676362895 -0.11749212365552084"
                rpy="1.2325445467239488e-05 0.4712462441254808 1.5708551857728619" />
            <mass value="0" />
            <inertia ixx="0" ixy="0" ixz="0" iyy="0" iyz="0" izz="0" />
        </inertial>
        <visual>
            <origin xyz="0.0008638901480674864 0.004619954887956686 -0.11295215320413332"
                rpy="1.2325445467364915e-05 0.471246244125481 1.5708551857728619" />
            <geometry>
                <mesh filename="package://meshes/taxel_27.STL" scale="0.01 0.01 0.01" />
            </geometry>
            <material name="carbon_fiber" />
        </visual>
        <collision>
            <origin xyz="0 0 0" rpy="0 0 0" />
            <geometry>
                <mesh filename="package://meshes/taxel_27.STL" scale="0.01 0.01 0.01" />
            </geometry>
        </collision>
    </link>

    <joint name="Taxel_1027_joint" type="fixed">
        <origin xyz="0.0008633657126970411 0.01352998676362895 -0.11749212365552084"
            rpy="1.2325445467239488e-05 0.4712462441254808 1.5708551857728619" />
        <parent link="HalfArm2_Link" />
        <child link="Taxel_1027" />
        <axis xyz="0 0 0" />
    </joint>

</robot>
